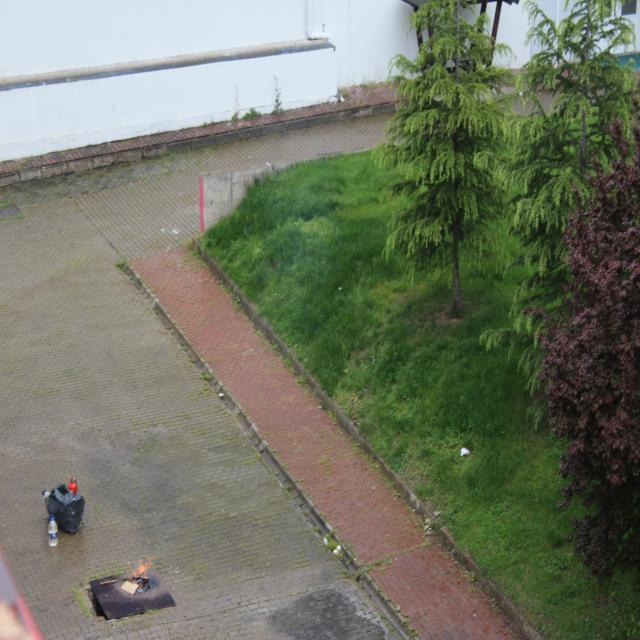fire: (130, 559, 151, 582)
